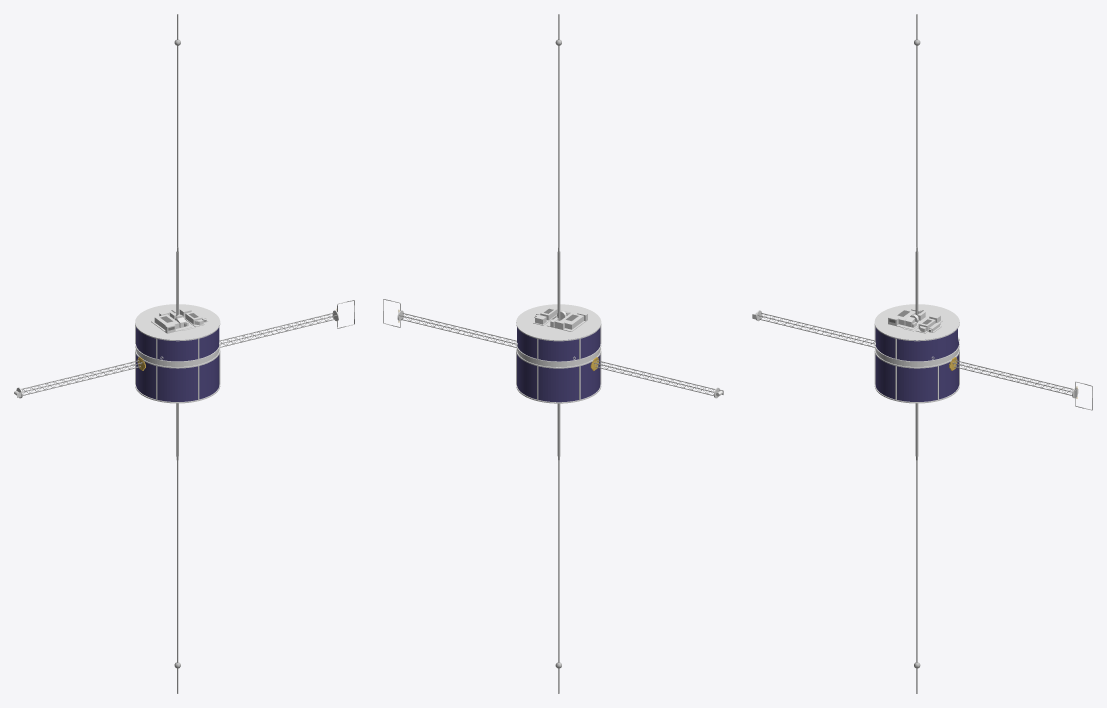
File: geo-tail-sat.glb
3 renders of one model, left to right at view 1: azimuth 30°, elevation 25°; view 2: azimuth 150°, elevation 25°; view 3: azimuth 330°, elevation 25°, orthographic.
Parts seen in each view (by area): view 1: Layer_0; view 2: Layer_0; view 3: Layer_0.
Boxes of the visible parts, bbox=[...] form: Layer_0: bbox=[14, 14, 354, 693]; Layer_0: bbox=[383, 14, 723, 693]; Layer_0: bbox=[752, 14, 1092, 693].
Size of the model in its own units: 5491 by 10511 by 1195.
